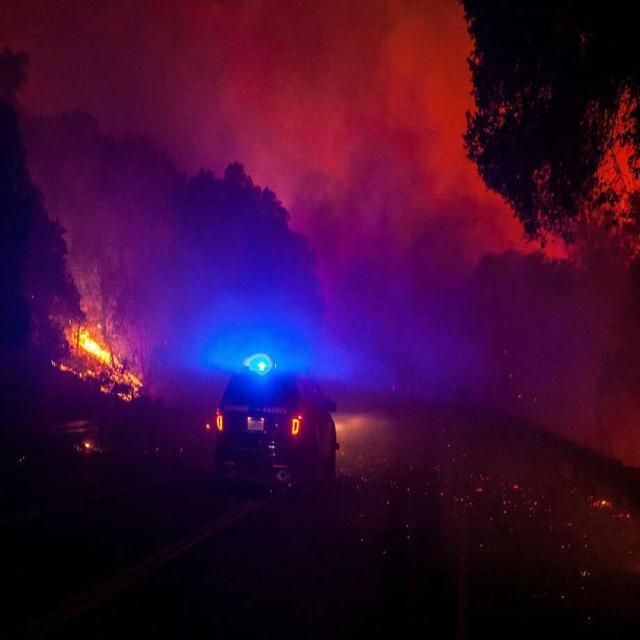Smoke: (292, 115, 573, 416)
